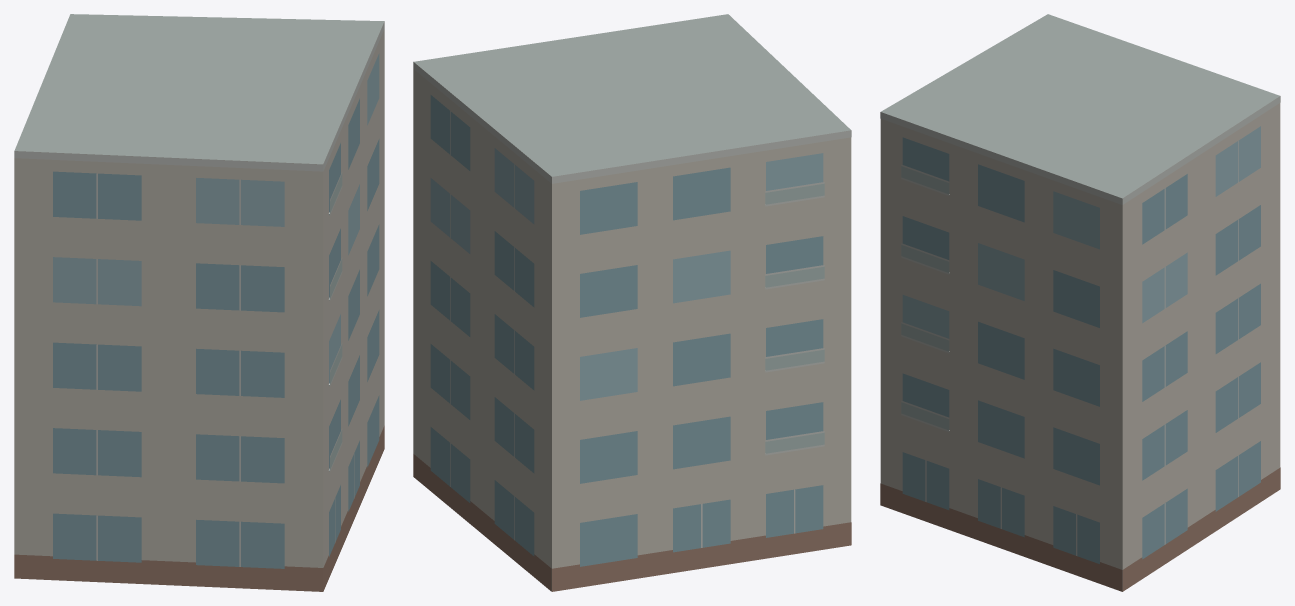
File: survey-upis-32776653.glb
The picture shows the model from 3 angles, left to right: view 1: azimuth 30°, elevation 25°; view 2: azimuth 150°, elevation 25°; view 3: azimuth 270°, elevation 25°; orthographic projection. The views are drawn at different scales.
Parts seen in each view (by area): view 1: survey-upis-32776653.tmp; view 2: survey-upis-32776653.tmp; view 3: survey-upis-32776653.tmp.
Part boxes in pixels (bbox=[...]): survey-upis-32776653.tmp: bbox=[14, 14, 384, 591]; survey-upis-32776653.tmp: bbox=[413, 14, 851, 591]; survey-upis-32776653.tmp: bbox=[880, 14, 1280, 591].
Size of the model in its own units: 14.49 by 14.4 by 13.28.
